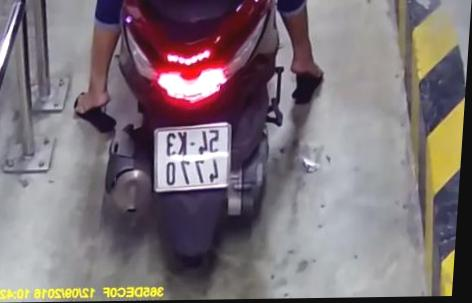License_Plate: (143, 117, 240, 201)
